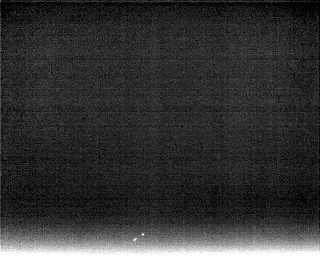BIRD: (131, 235, 138, 243)
